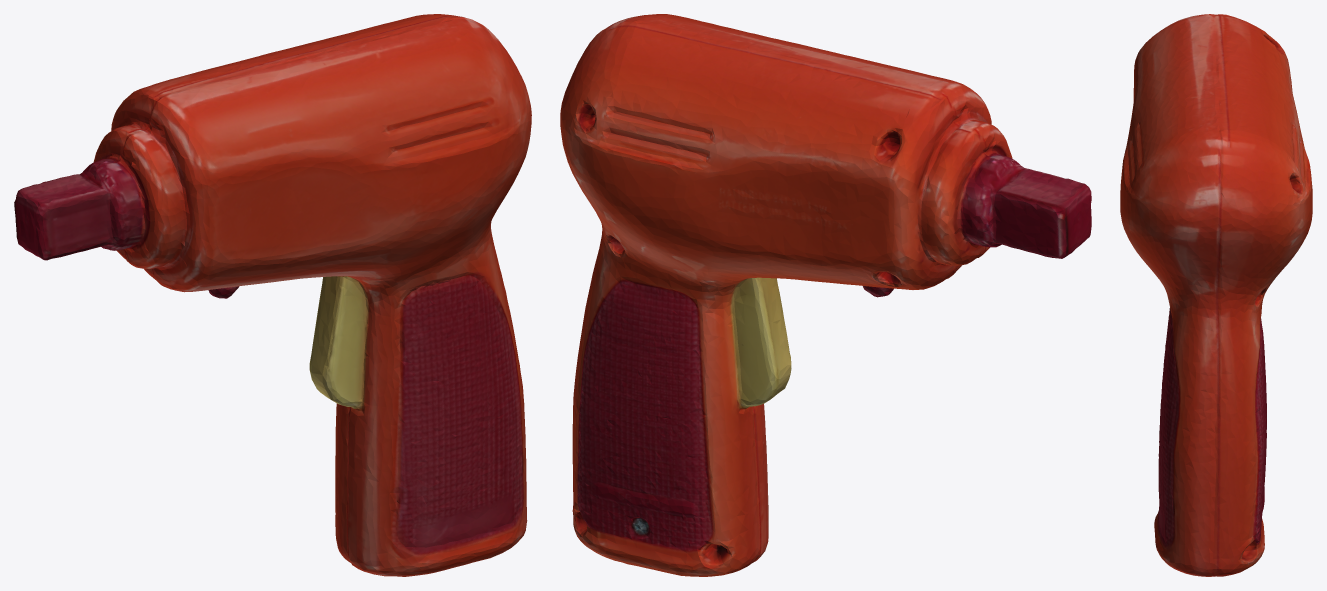
File: b_toy_airplane.glb
3 renders of one model, left to right at view 1: azimuth 30°, elevation 25°; view 2: azimuth 150°, elevation 25°; view 3: azimuth 270°, elevation 25°, orthographic. The views are drawn at different scales.
Parts seen in each view (by area): view 1: textured.obj; view 2: textured.obj; view 3: textured.obj.
Part boxes in pixels (x1=…): textured.obj: x1=14, y1=14, x2=531, y2=576; textured.obj: x1=560, y1=14, x2=1091, y2=576; textured.obj: x1=1120, y1=14, x2=1312, y2=576.
Size of the model in its own units: 0.1396 by 0.1413 by 0.0575.
1 material, 1 textured.
